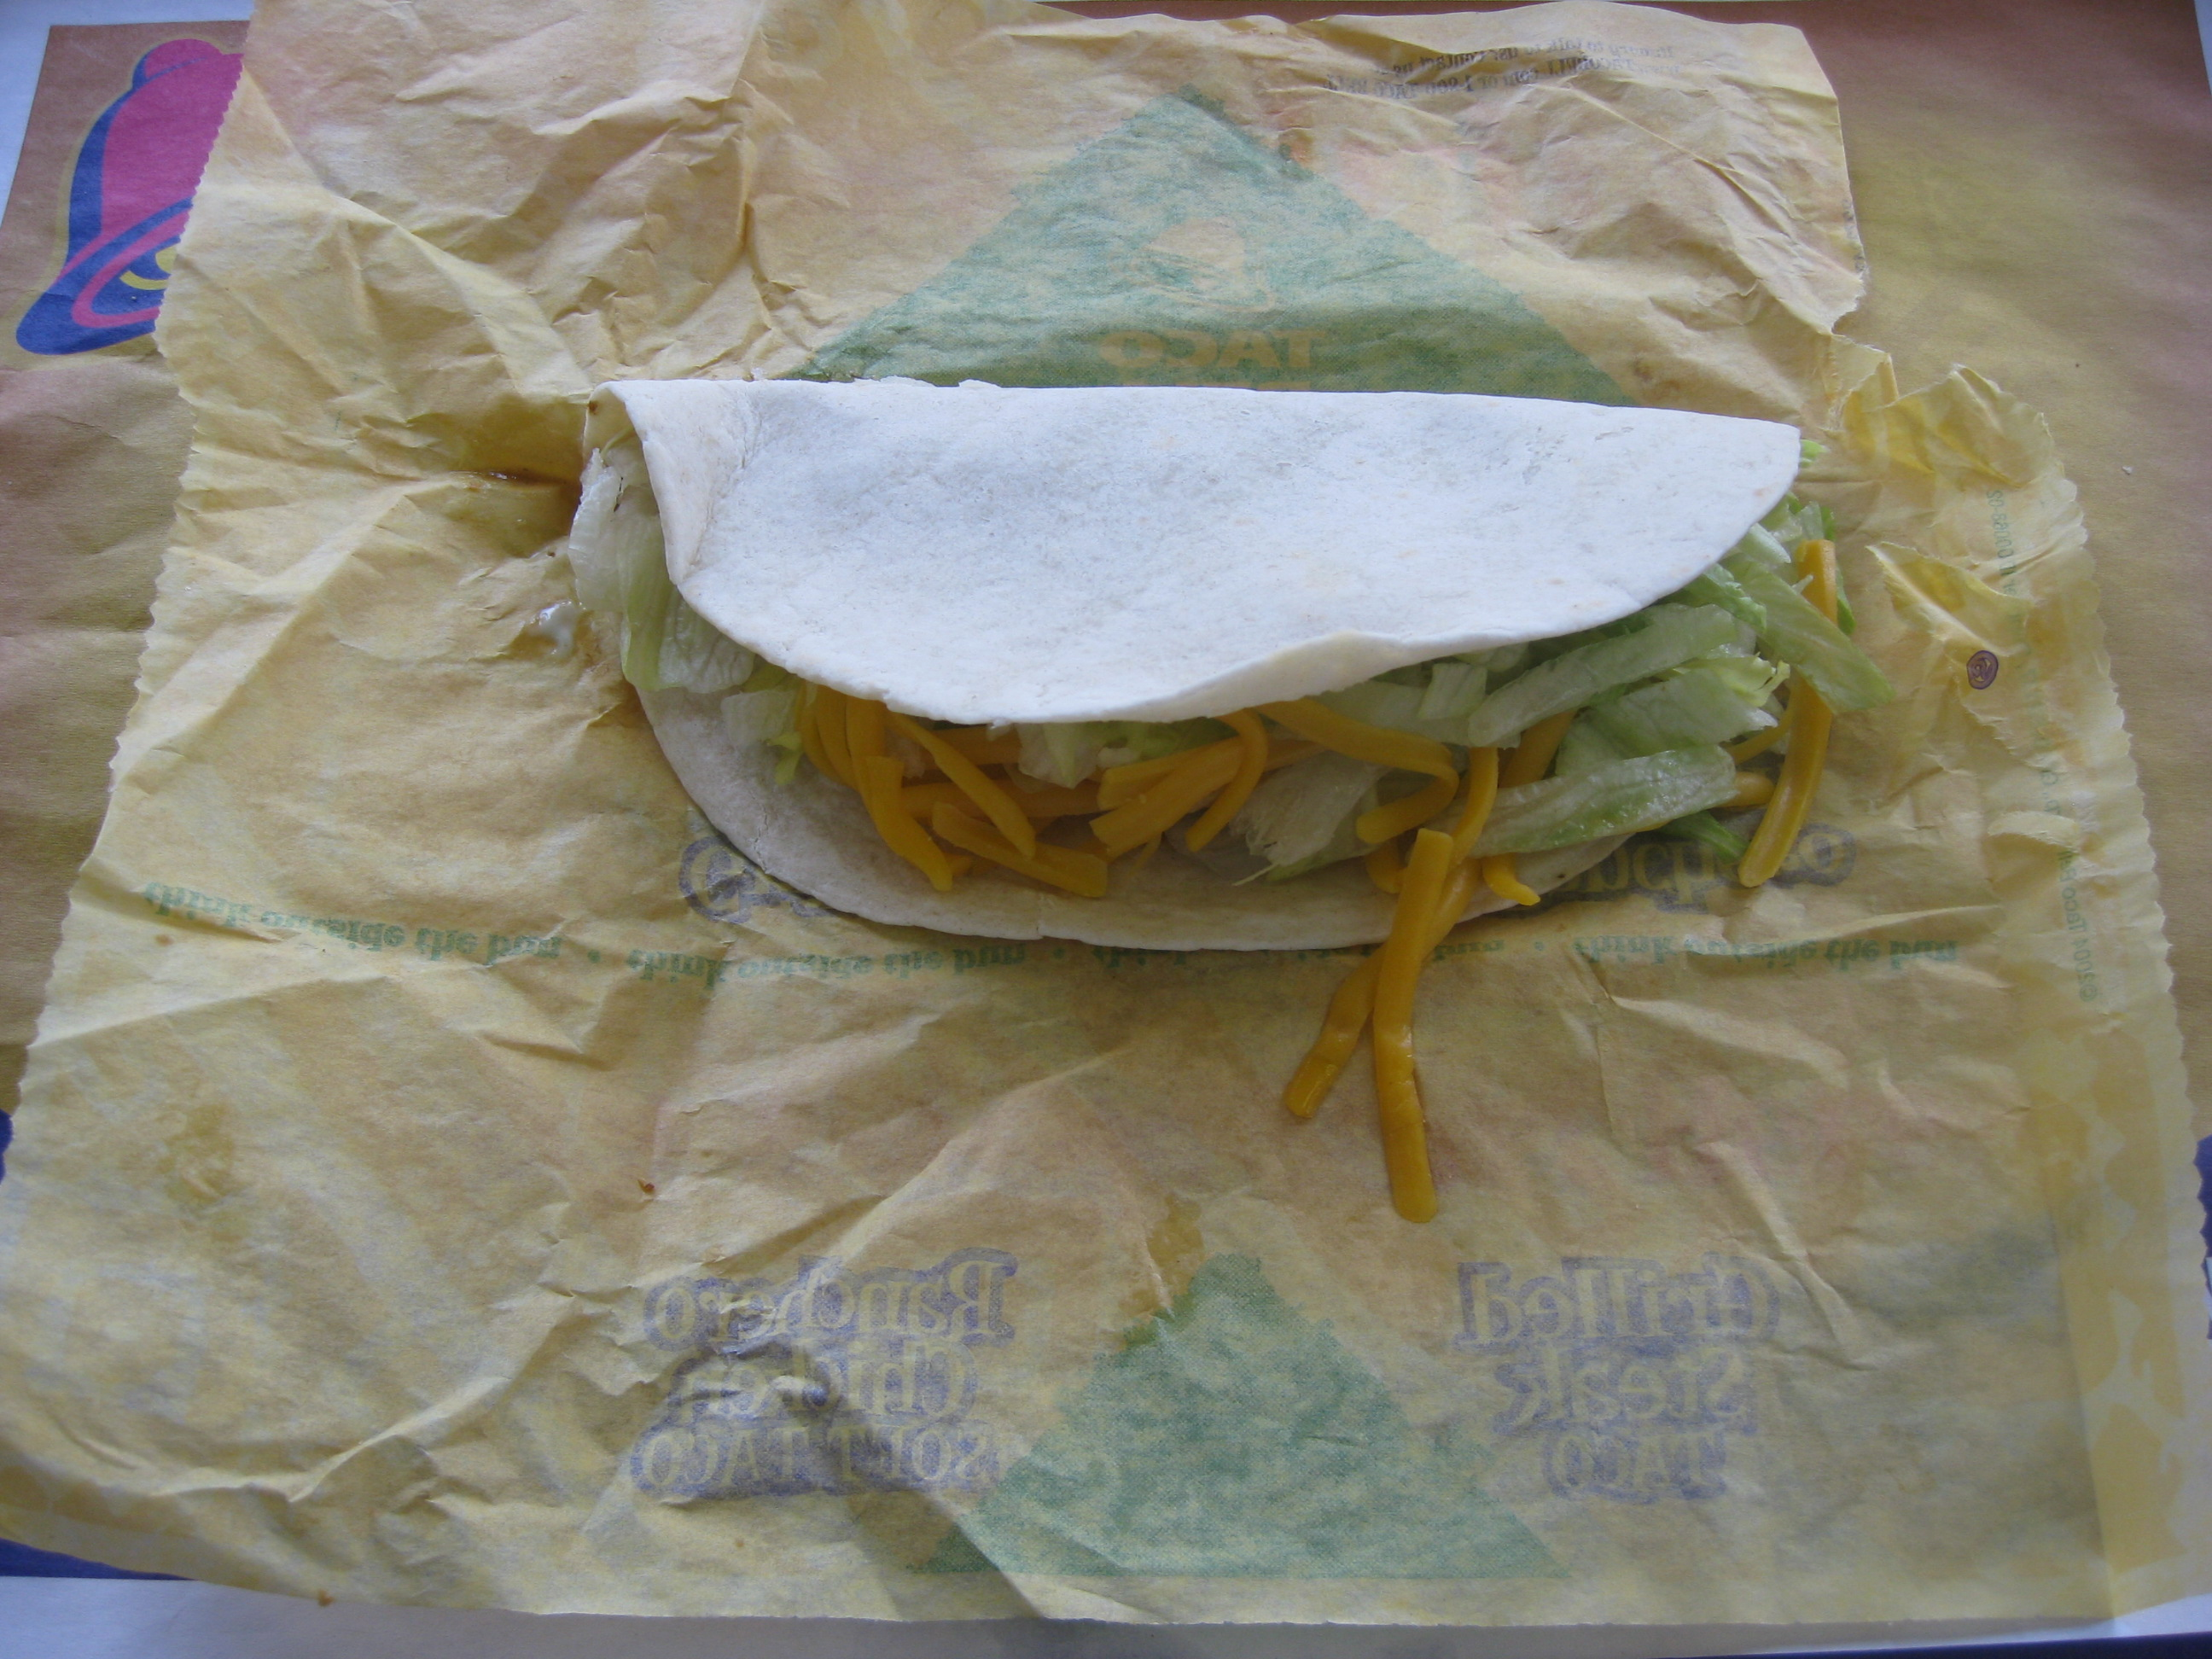taco: (486, 319, 1952, 1086)
